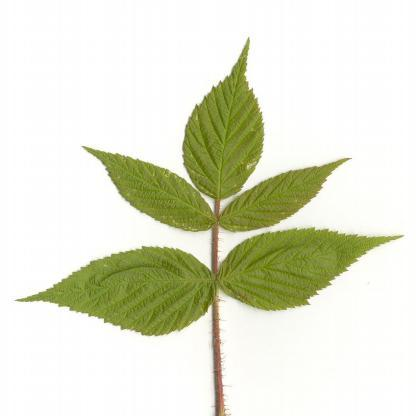Raspberry leaf: (10, 240, 224, 338), (216, 229, 402, 312), (180, 32, 268, 202), (71, 140, 218, 235), (221, 150, 357, 232)
